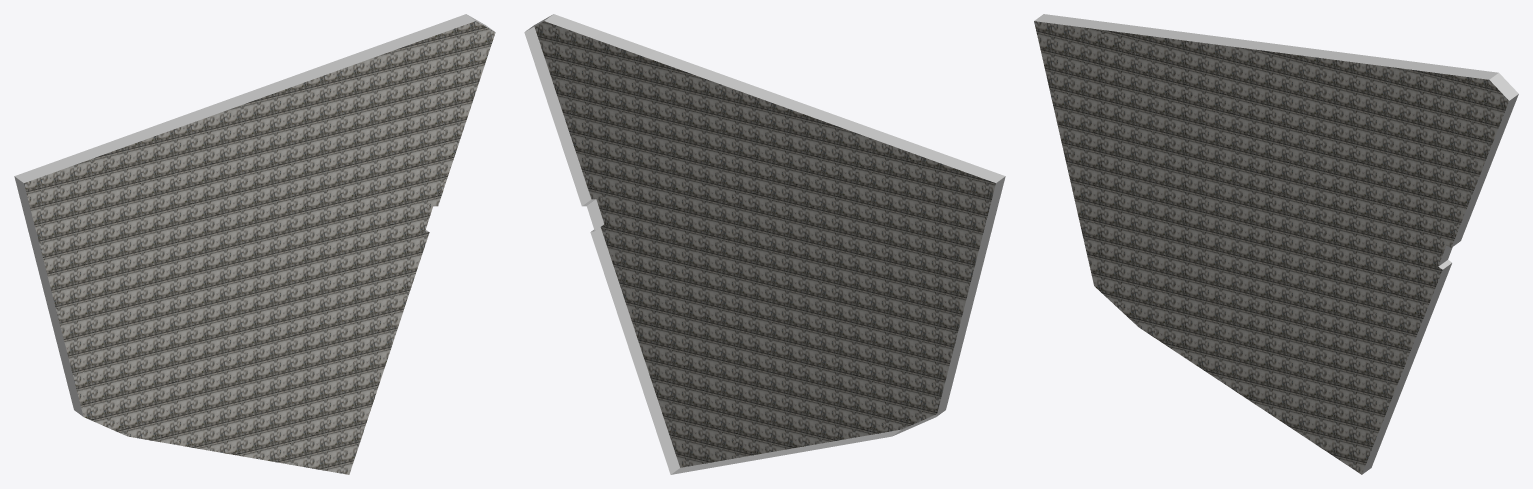
File: geospecific_286.obj
The picture shows the model from 3 angles, left to right: view 1: azimuth 30°, elevation 25°; view 2: azimuth 150°, elevation 25°; view 3: azimuth 330°, elevation 25°; orthographic projection.
Parts seen in each view (by area): view 1: Building; view 2: Building; view 3: Building.
Part boxes in pixels (left/top/right/bottom): Building: left=14, top=14, right=495, bottom=474; Building: left=524, top=14, right=1005, bottom=474; Building: left=1034, top=14, right=1518, bottom=474.
Size of the model in its own units: 84.94 by 72.79 by 3.
